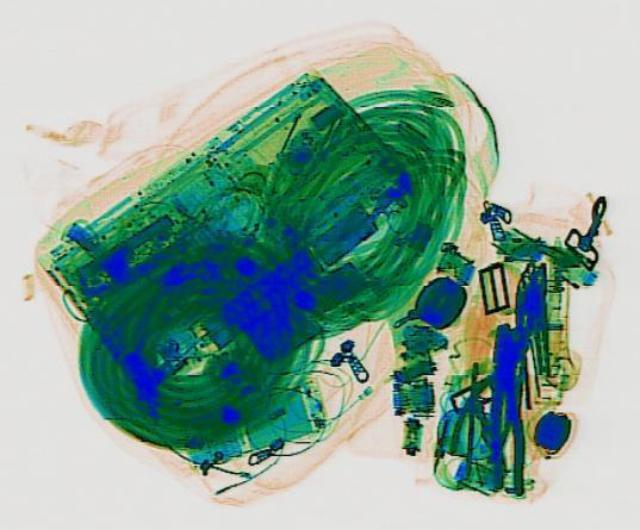Pliers: (484, 323, 526, 492)
